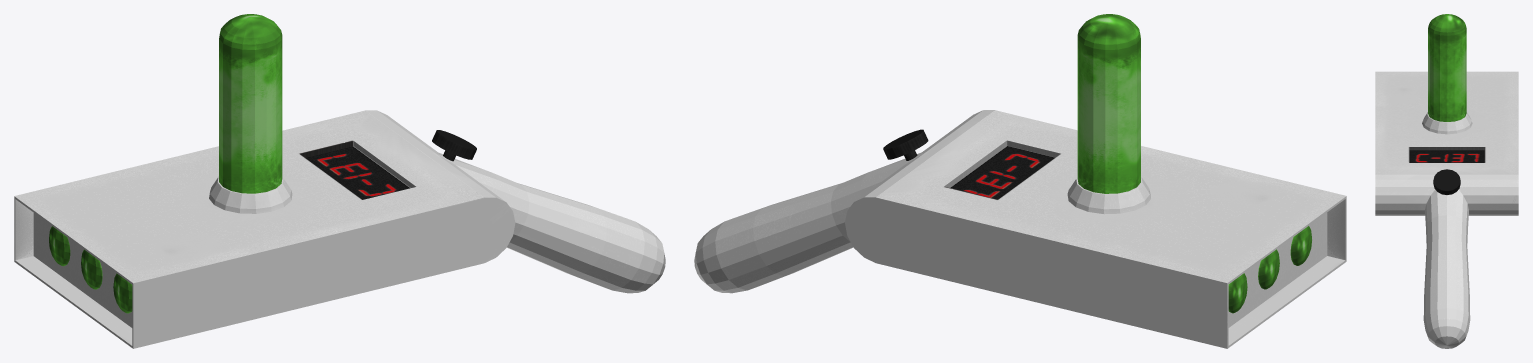
The model's file is portalgun.obj.
The picture shows the model from 3 angles, left to right: view 1: azimuth 30°, elevation 25°; view 2: azimuth 150°, elevation 25°; view 3: azimuth 270°, elevation 25°; orthographic projection. The views are drawn at different scales.
Visible parts, largest first — view 1: ricksgun; view 2: ricksgun; view 3: ricksgun.
Boxes of the visible parts, x1,y1,x2,y2 form: ricksgun: (14,14,665,348); ricksgun: (694,14,1346,348); ricksgun: (1375,14,1518,348).
Size of the model in its own units: 5.21 by 3.1 by 1.83.
